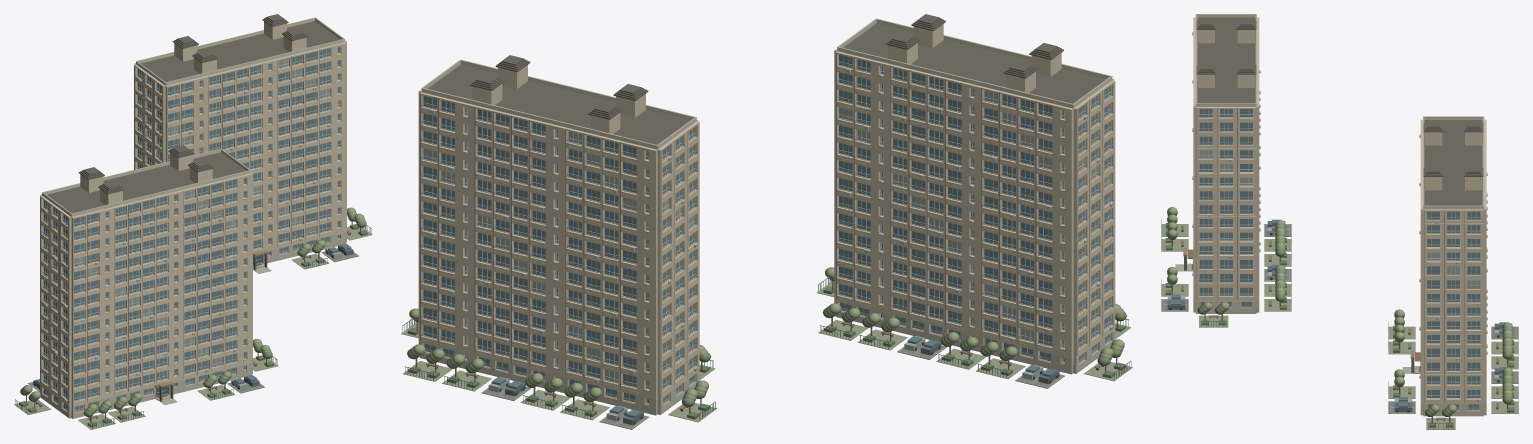
File: middle-1.glb
3 renders of one model, left to right at view 1: azimuth 30°, elevation 25°; view 2: azimuth 150°, elevation 25°; view 3: azimuth 270°, elevation 25°, orthographic. The views are drawn at different scales.
Visible parts, largest first — view 1: korean-facade-parts-d5c9af, korean-facade-surface-728d91, korean-facade-parts-e0dfd3, korean-facade-parts-8f9b97, middle-1, korean-facade-parts-9b7860, korean-facade-surface-9eaaa4, korean-facade-parts-c5c0ae, korean-facade-parts-716e64, korean-facade-parts-9ba48a, korean-facade-parts-b8bcb2, korean-facade-parts-94a17c (+6 smaller); view 2: korean-facade-parts-d5c9af, korean-facade-surface-728d91, korean-facade-parts-e0dfd3, korean-facade-parts-8f9b97, middle-1, korean-facade-parts-9b7860, korean-facade-parts-9ba48a, korean-facade-parts-c5c0ae, korean-facade-surface-9eaaa4, korean-facade-parts-716e64, korean-facade-parts-94a17c, korean-facade-parts-b8bcb2 (+9 smaller); view 3: korean-facade-parts-d5c9af, korean-facade-surface-728d91, middle-1, korean-facade-parts-e0dfd3, korean-facade-parts-9ba48a, korean-facade-parts-8f9b97, korean-facade-parts-94a17c, korean-facade-parts-716e64, korean-facade-parts-9b7860, korean-facade-parts-b8bcb2, korean-facade-parts-858b82, korean-facade-parts-c5c0ae (+10 smaller).
Part boxes in pixels (x1=…): korean-facade-parts-d5c9af: x1=40, y1=18, x2=346, y2=406; korean-facade-surface-728d91: x1=43, y1=47, x2=339, y2=409; korean-facade-parts-e0dfd3: x1=43, y1=47, x2=340, y2=401; korean-facade-parts-8f9b97: x1=42, y1=54, x2=330, y2=401; middle-1: x1=47, y1=21, x2=339, y2=213; korean-facade-parts-9b7860: x1=40, y1=50, x2=341, y2=417; korean-facade-surface-9eaaa4: x1=43, y1=58, x2=339, y2=366; korean-facade-parts-c5c0ae: x1=40, y1=231, x2=346, y2=418; korean-facade-parts-716e64: x1=78, y1=14, x2=308, y2=194; korean-facade-parts-9ba48a: x1=14, y1=226, x2=372, y2=429; korean-facade-parts-b8bcb2: x1=41, y1=17, x2=345, y2=214; korean-facade-parts-94a17c: x1=22, y1=207, x2=364, y2=411; korean-facade-parts-d5c9af: x1=418, y1=20, x2=1115, y2=400; korean-facade-surface-728d91: x1=423, y1=54, x2=1110, y2=400; korean-facade-parts-e0dfd3: x1=422, y1=54, x2=1111, y2=389; korean-facade-parts-8f9b97: x1=421, y1=62, x2=1112, y2=390; middle-1: x1=428, y1=23, x2=1105, y2=364; korean-facade-parts-9b7860: x1=420, y1=52, x2=1102, y2=409; korean-facade-parts-9ba48a: x1=401, y1=281, x2=1132, y2=422; korean-facade-parts-c5c0ae: x1=418, y1=299, x2=1115, y2=415; korean-facade-surface-9eaaa4: x1=423, y1=90, x2=1110, y2=382; korean-facade-parts-716e64: x1=470, y1=14, x2=1063, y2=119; korean-facade-parts-94a17c: x1=409, y1=267, x2=1124, y2=398; korean-facade-parts-b8bcb2: x1=421, y1=18, x2=1112, y2=146; korean-facade-parts-d5c9af: x1=1193, y1=15, x2=1486, y2=404; korean-facade-surface-728d91: x1=1199, y1=109, x2=1480, y2=409; middle-1: x1=1196, y1=17, x2=1482, y2=205; korean-facade-parts-e0dfd3: x1=1199, y1=109, x2=1480, y2=398; korean-facade-parts-9ba48a: x1=1161, y1=224, x2=1518, y2=429; korean-facade-parts-8f9b97: x1=1199, y1=115, x2=1480, y2=398; korean-facade-parts-94a17c: x1=1167, y1=207, x2=1512, y2=412; korean-facade-parts-716e64: x1=1196, y1=19, x2=1483, y2=176; korean-facade-parts-9b7860: x1=1187, y1=108, x2=1464, y2=414; korean-facade-parts-b8bcb2: x1=1195, y1=14, x2=1484, y2=206; korean-facade-parts-858b82: x1=1161, y1=224, x2=1518, y2=413; korean-facade-parts-c5c0ae: x1=1193, y1=300, x2=1486, y2=416.
Size of the model in its own units: 104 by 48.93 by 70.8.
